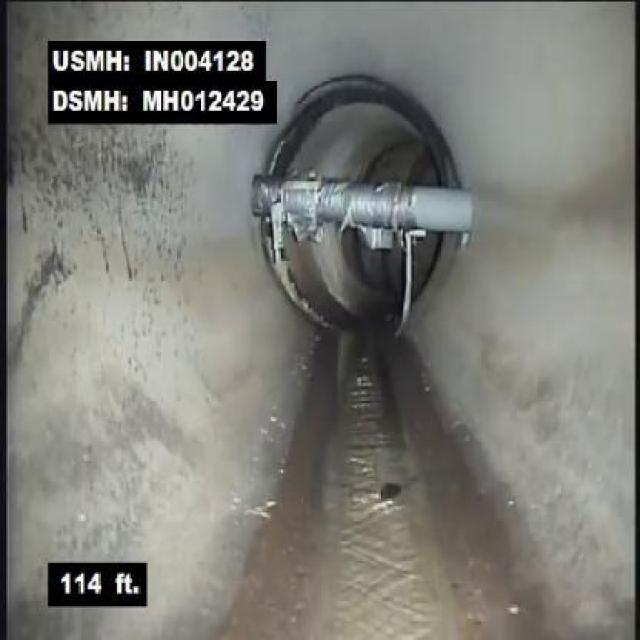Utility intrusion: (250, 175, 482, 240)
